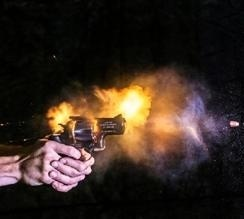fire: (95, 85, 152, 131)
